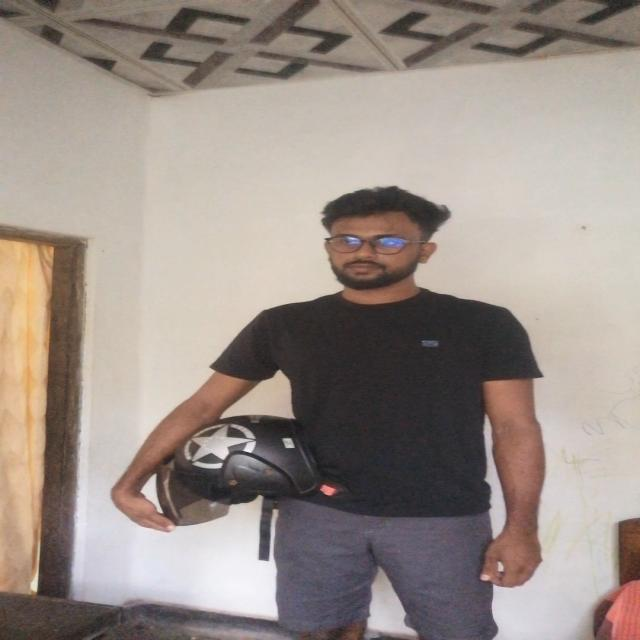Person: (116, 185, 582, 640)
